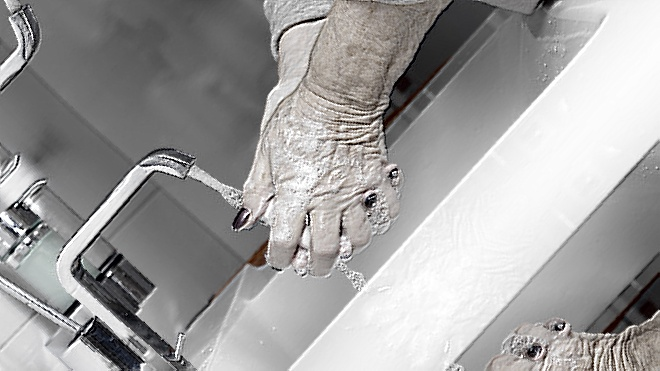washing hand: (73, 3, 448, 370)
